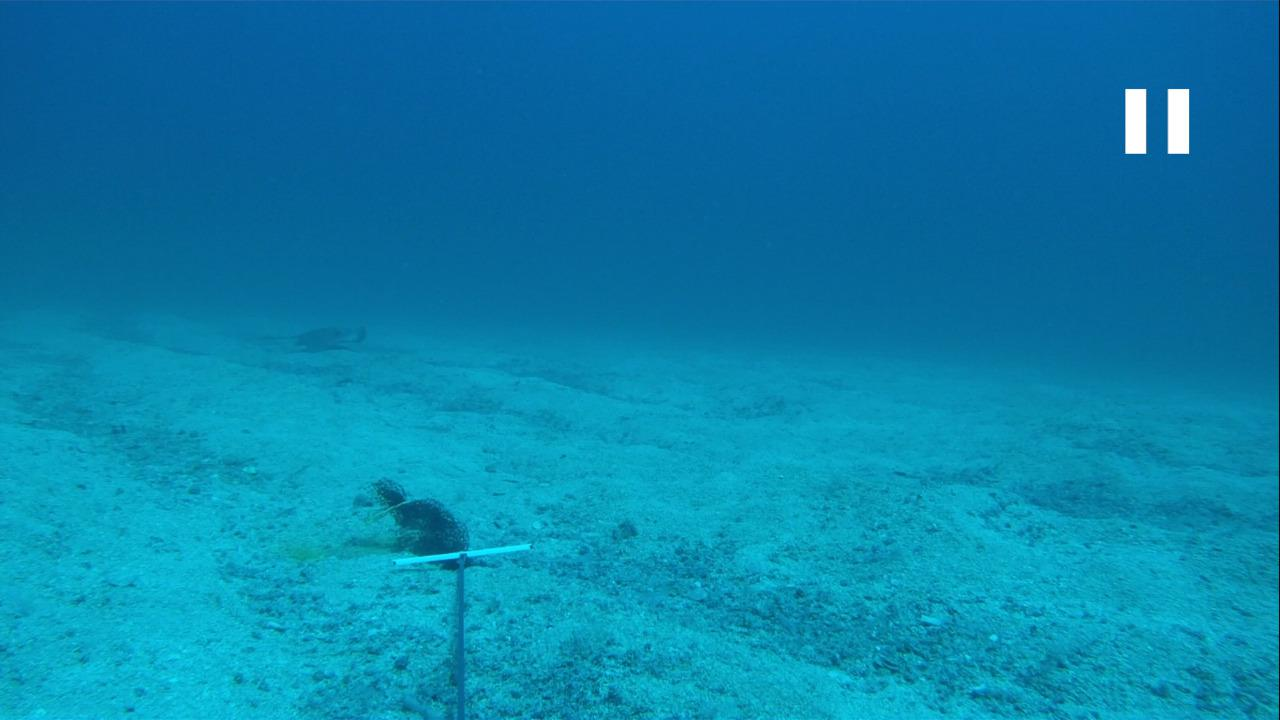myliobatis: (208, 306, 374, 367)
